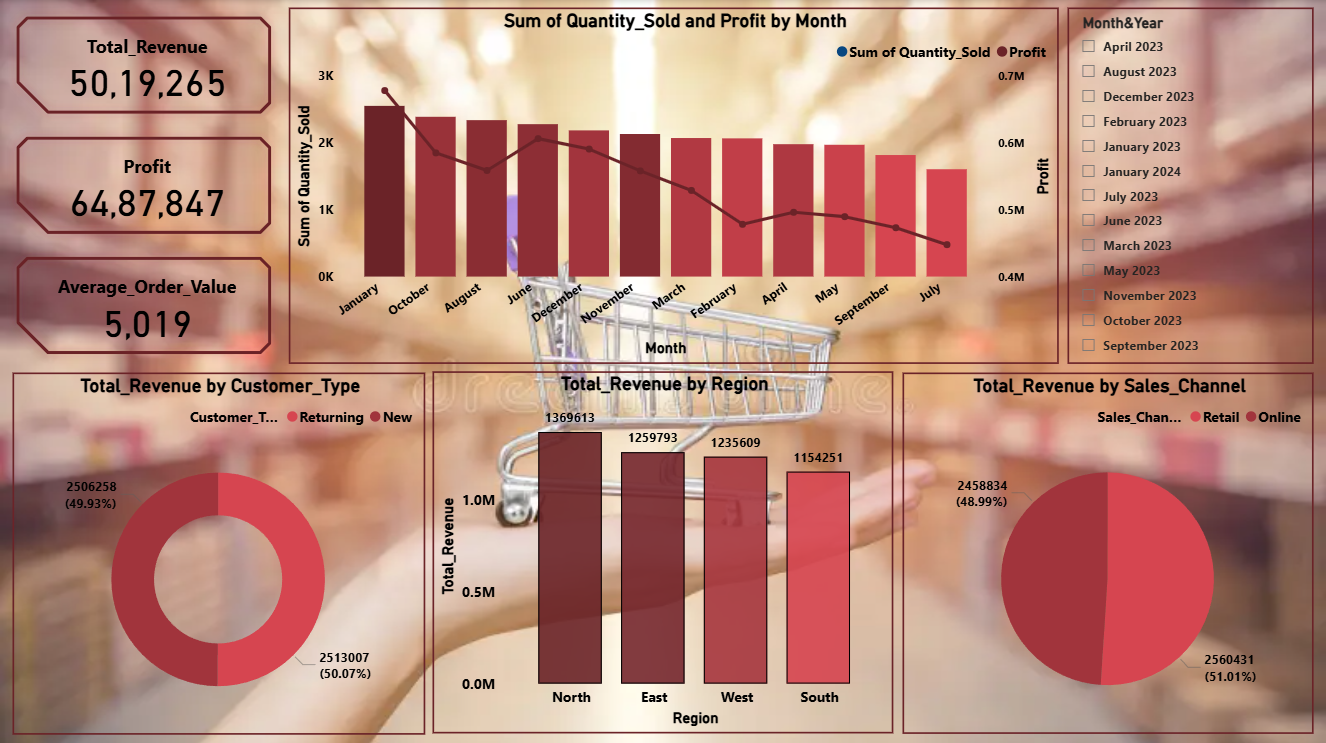

This screenshot's page, from the dashboard's own definition file:
{"tool":"powerbi","page":{"name":"Page 2","canvas":[1280,720],"ordinal":1},"visuals":[{"type":"donutChart","fields":{"Category":["sales.Customer_Type"],"Y":["sales.Total_Revenue"]},"box":[12.1,359.5,398.1,349.9],"z":0},{"type":"clusteredColumnChart","fields":{"Category":["sales.Region"],"Y":["sales.Total_Revenue"]},"box":[417.4,358.3,445.2,349.9],"z":1000},{"type":"pieChart","fields":{"Y":["sales.Total_Revenue"],"Category":["sales.Sales_Channel"]},"box":[871.1,359.5,396.9,348.7],"z":2000},{"type":"lineStackedColumnComboChart","fields":{"Category":["sales.Month"],"Y":["Sum(sales.Quantity_Sold)"],"Y2":["sales.Profit"]},"box":[278.7,7.2,743.2,343.8],"z":3000},{"type":"slicer","fields":{"Values":["sales.Month&Year"]},"box":[1030.3,7.2,237.7,343.8],"z":4000},{"type":"cardVisual","fields":{"Data":["sales.Total_Revenue","sales.Profit","sales.Average_Order_Value"]},"box":[0,0,278.7,358.3],"z":5000}]}

Visuals, with their boxes in screenshot pixels (x1, y1, x2, y2), scaled from the page's 1280x720 canvas onto the 1326x743 screenshot:
donutChart - sales.Customer_Type x sales.Total_Revenue: left=13, top=371, right=425, bottom=732
clusteredColumnChart - sales.Region x sales.Total_Revenue: left=432, top=370, right=894, bottom=731
pieChart - sales.Total_Revenue x sales.Sales_Channel: left=902, top=371, right=1314, bottom=731
lineStackedColumnComboChart - sales.Month x Sum(sales.Quantity_Sold): left=289, top=7, right=1059, bottom=362
slicer - sales.Month&Year: left=1067, top=7, right=1314, bottom=362
cardVisual - sales.Total_Revenue x sales.Profit: left=0, top=0, right=289, bottom=370
